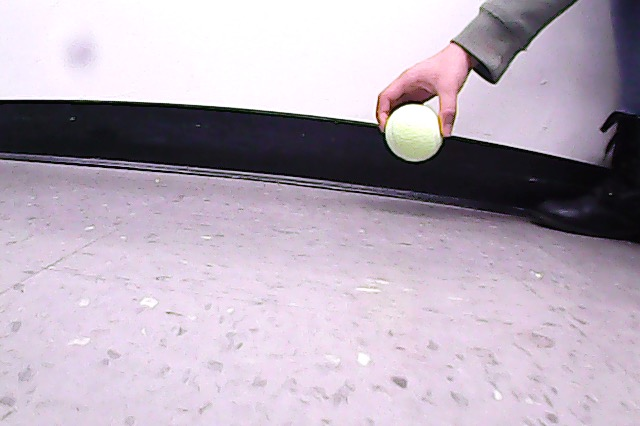ball: (382, 103, 446, 164)
